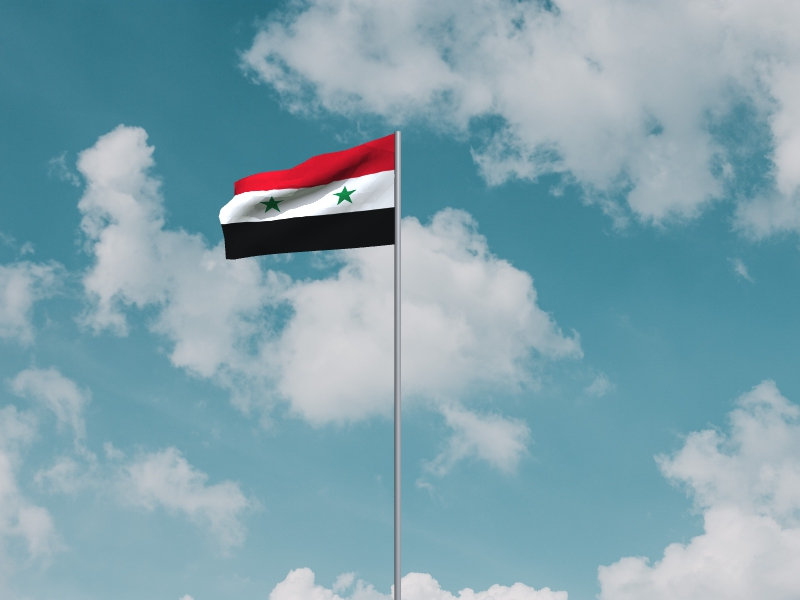sy: (218, 133, 395, 261)
